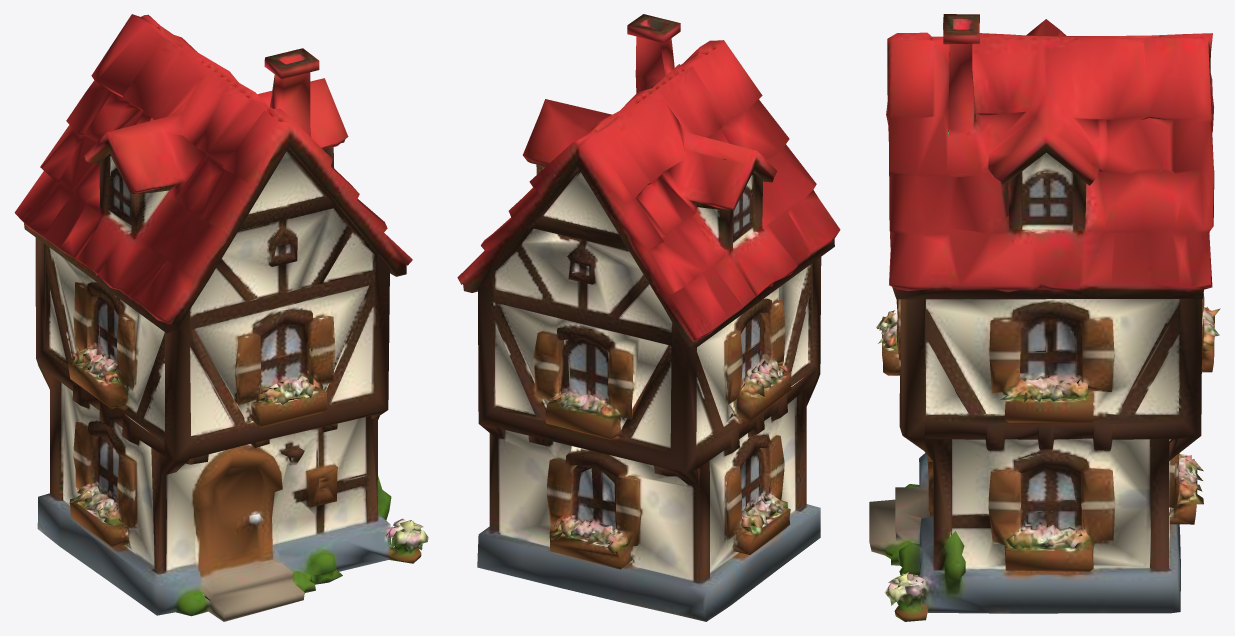
The model's file is house_terra_9.glb.
3 renders of one model, left to right at view 1: azimuth 30°, elevation 25°; view 2: azimuth 150°, elevation 25°; view 3: azimuth 270°, elevation 25°, orthographic. The views are drawn at different scales.
Visible parts, largest first — view 1: ЦІЛЬ; view 2: ЦІЛЬ; view 3: ЦІЛЬ.
Boxes of the visible parts, bbox=[...] form: ЦІЛЬ: bbox=[14, 14, 428, 621]; ЦІЛЬ: bbox=[457, 14, 840, 621]; ЦІЛЬ: bbox=[869, 14, 1220, 621].
Size of the model in its own units: 1.2 by 2.1 by 1.23.
Materials: 1 (1 with a texture image).
